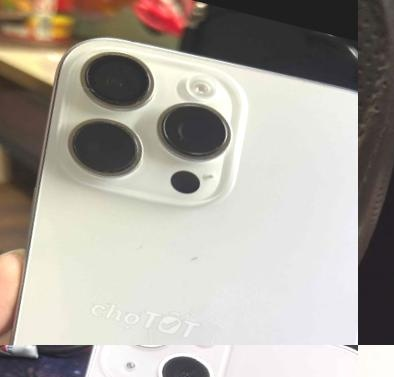scratch: (110, 224, 171, 265), (69, 74, 115, 106), (173, 242, 215, 276)
